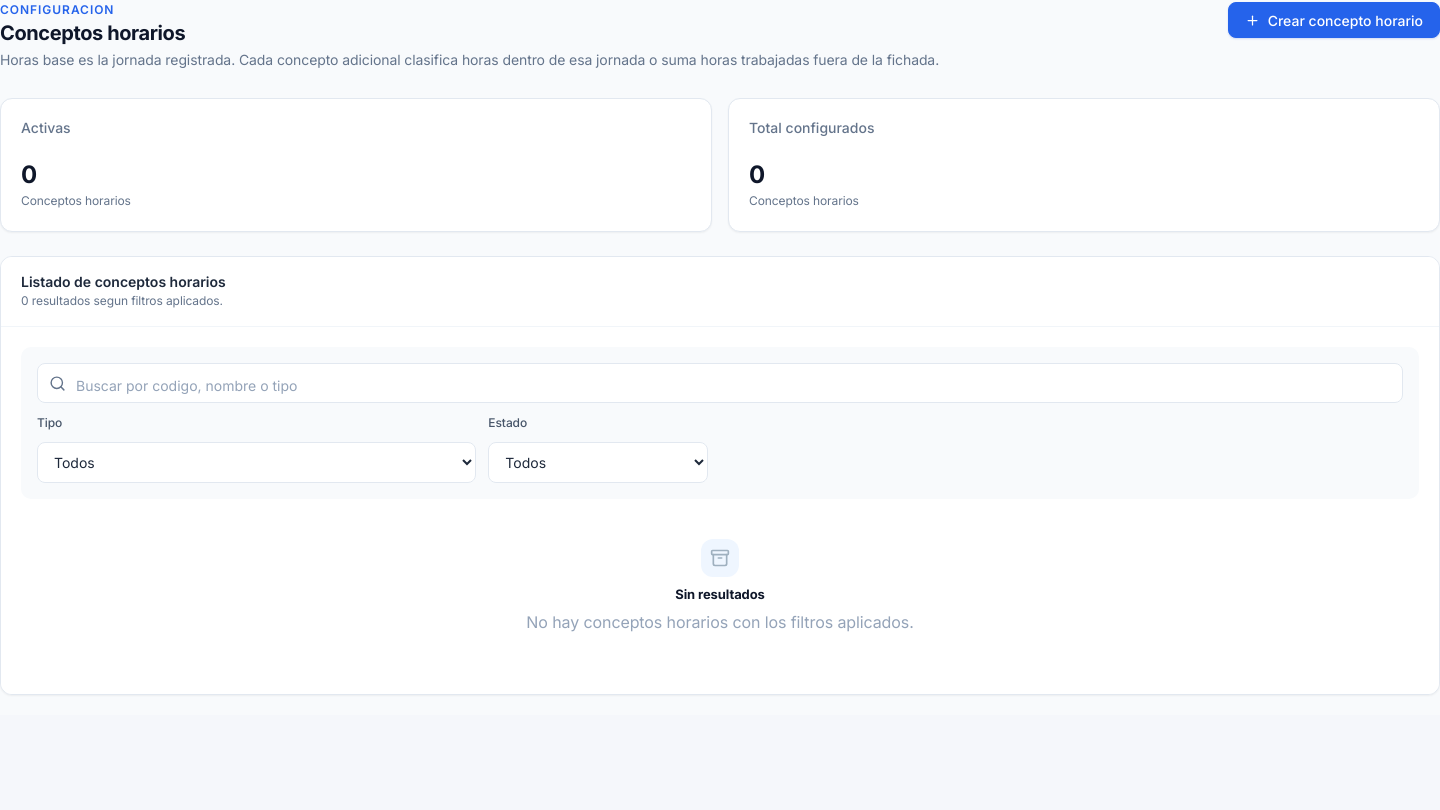
HourConceptsPage — tratamiento en el total trabajado › si otro usuario ocupa el código al guardar, conserva el formulario y asigna el siguiente código
Click the button "Crear concepto horario".
click(1334, 20)  # box [1228,2,1439,38]
(page scrolled)
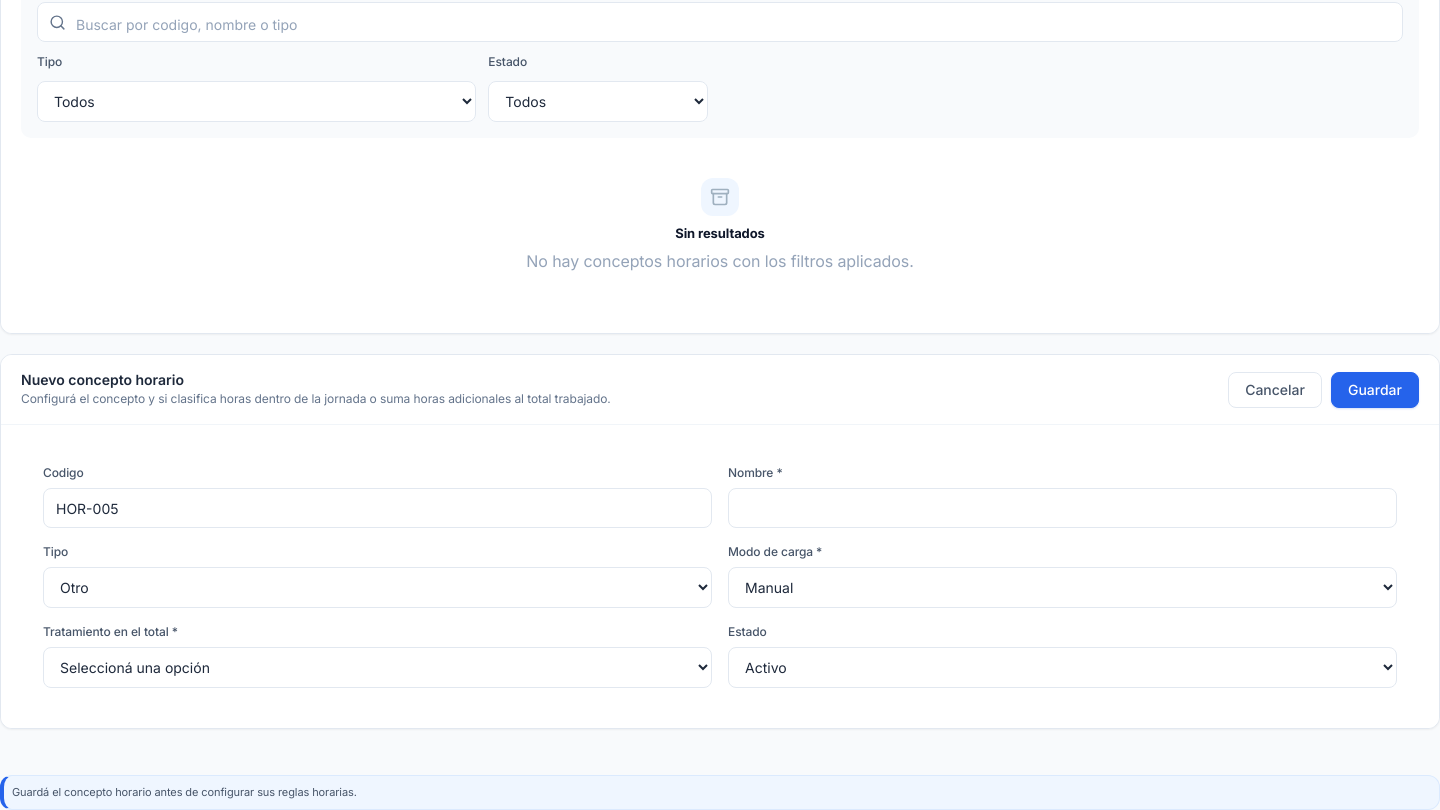
Type "Prueba 02" into the field labelled "Nombre *".
click(1062, 508); type("Prueba 02")  # box [728,488,1397,528]
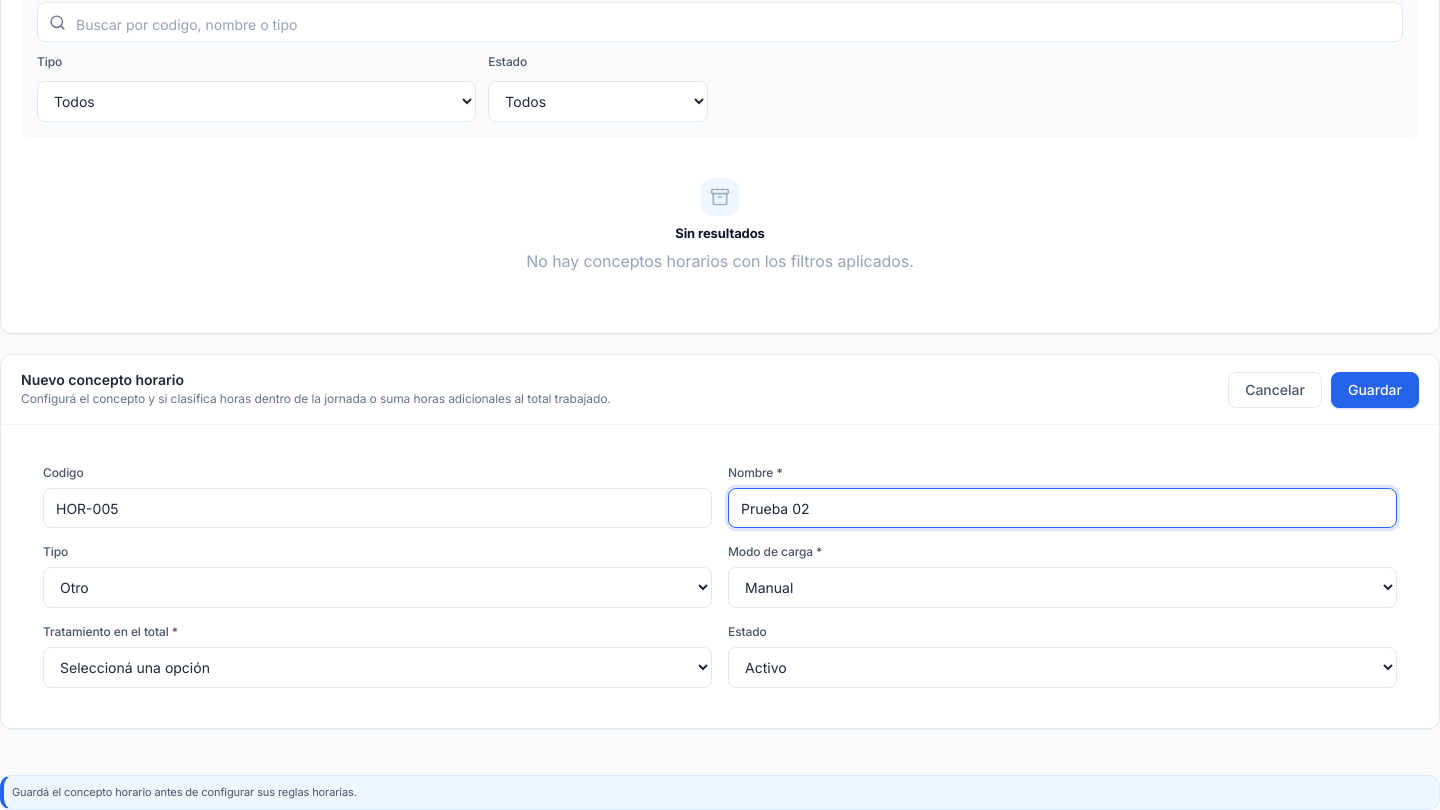
Select "Dentro de la jornada" in the dropdown labelled "Tratamiento en el total *" at (378, 668), box [43,648,712,688]
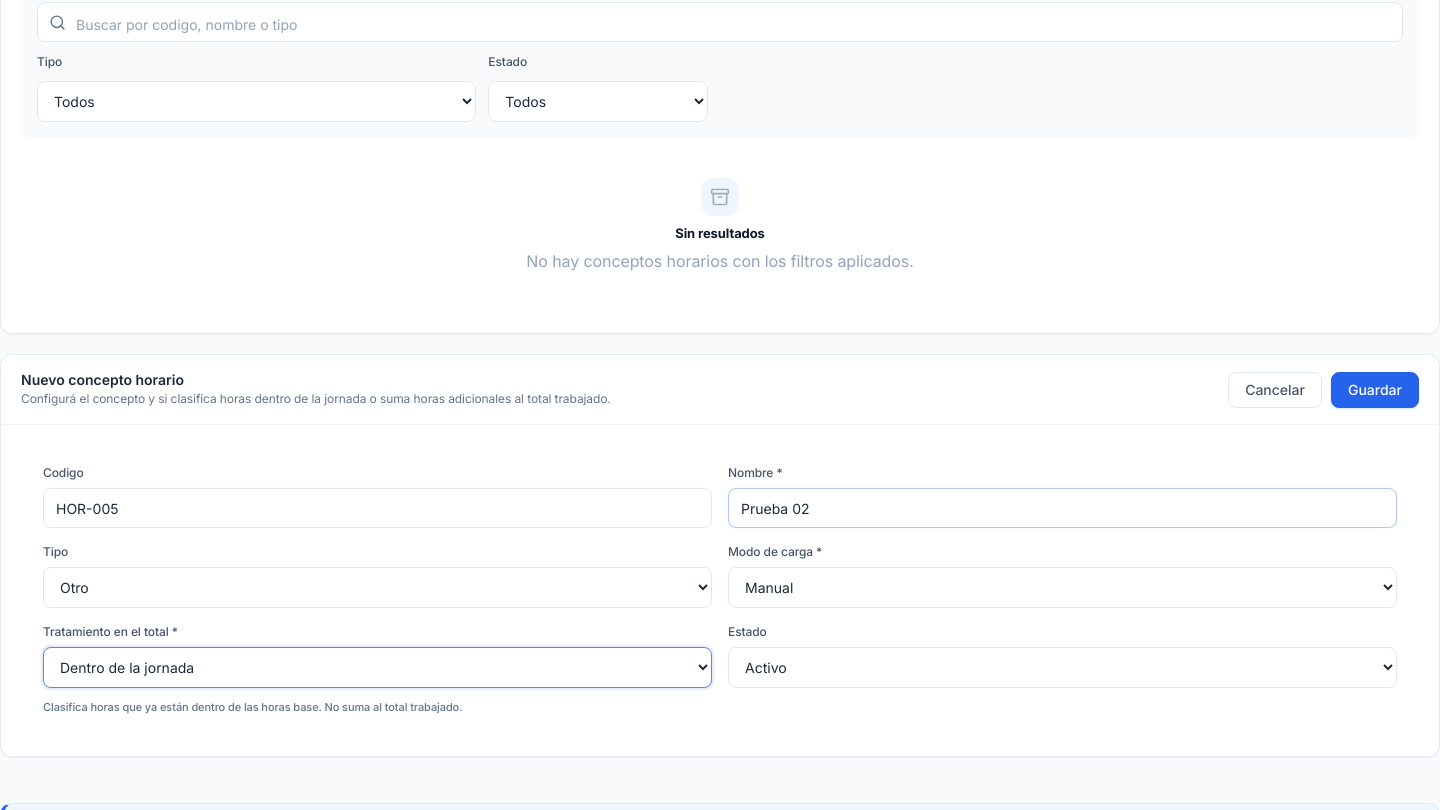
Click the button "Guardar".
click(1375, 390)  # box [1331,372,1419,408]
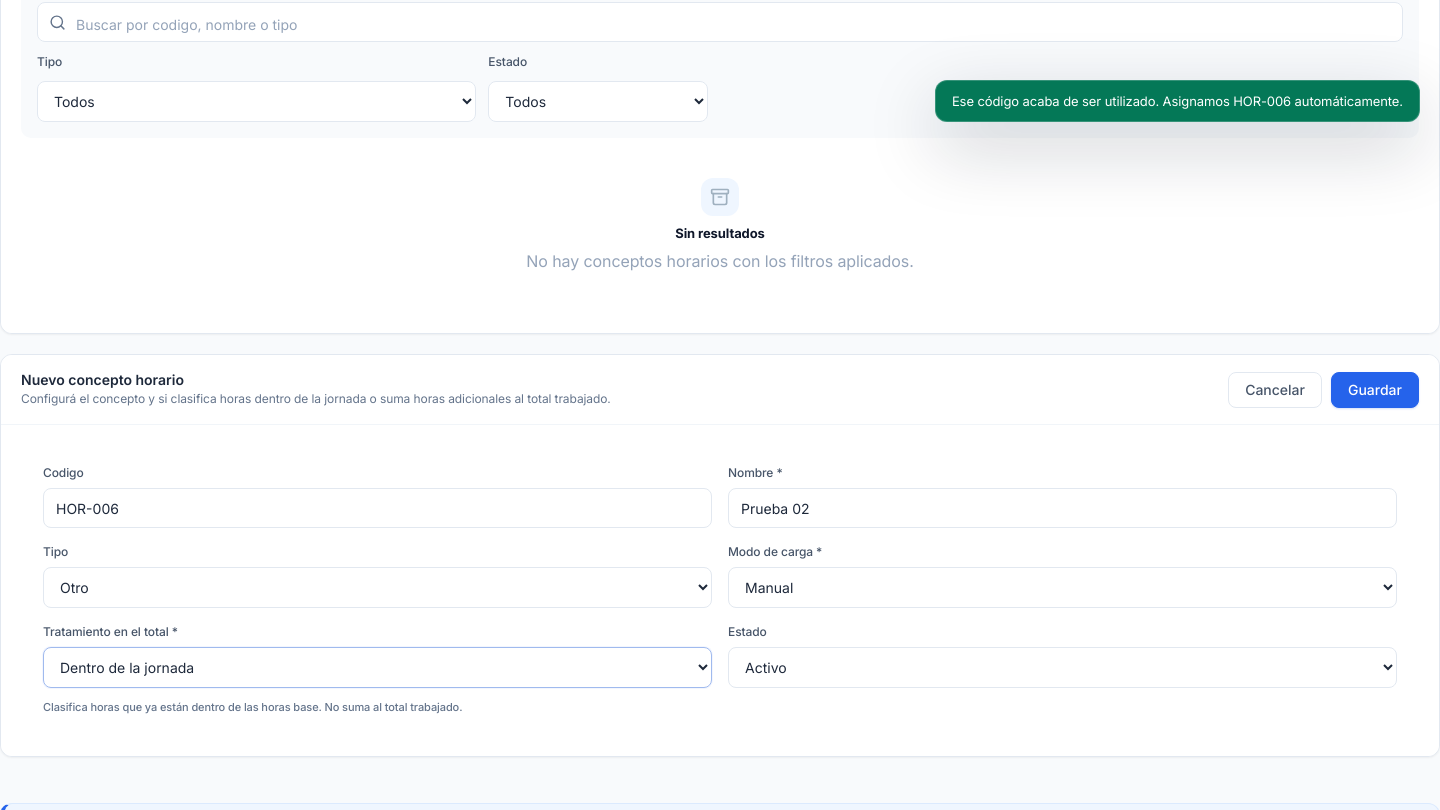
expect the text "Ese código acaba de ser utilizado. Asignamos HOR-006 automáticamente." is shown: met, box [935,80,1420,122]
expect the field labelled "Codigo" holds "HOR-006": met, box [43,488,712,528]
